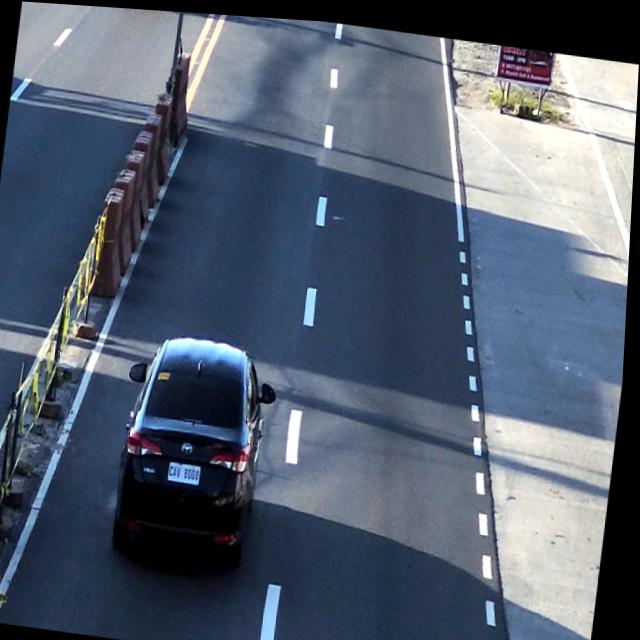Car: (125, 335, 269, 566)
License-Plate: (171, 457, 208, 485)
